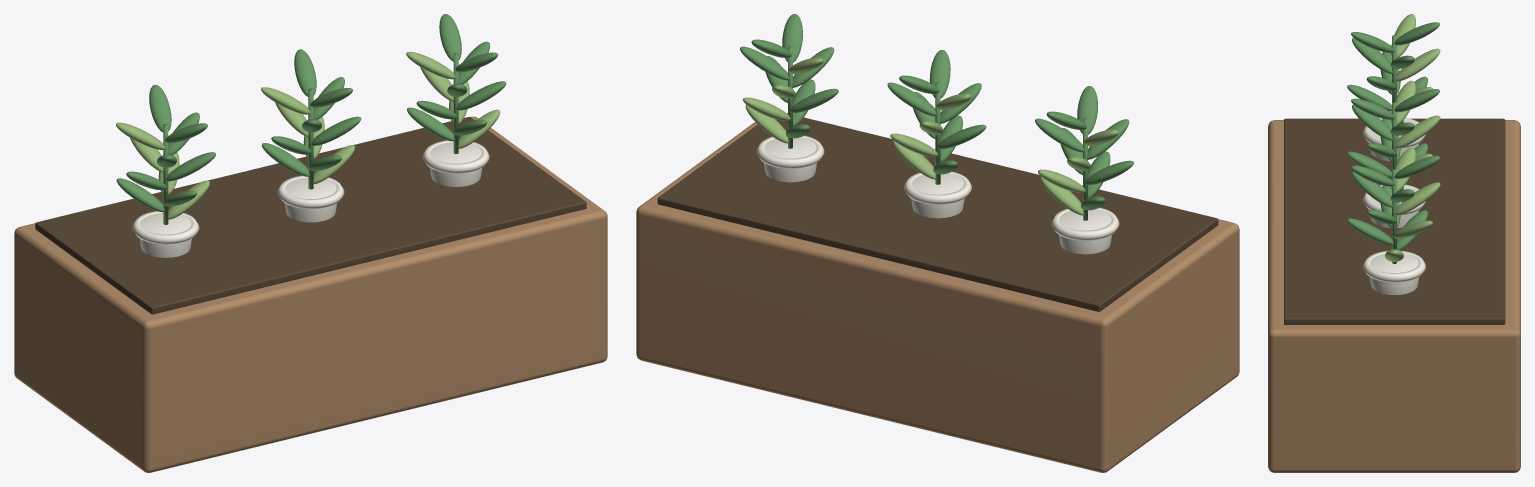
File: atelier-raised-garden-bed.glb
3 renders of one model, left to right at view 1: azimuth 30°, elevation 25°; view 2: azimuth 150°, elevation 25°; view 3: azimuth 270°, elevation 25°, orthographic. The views are drawn at different scales.
Visible parts, largest first — view 1: legs.206, soil.039, leaf.028, ceramic.131, leafLight.018; view 2: legs.206, soil.039, leaf.028, ceramic.131, leafLight.018; view 3: legs.206, soil.039, leaf.028, leafLight.018, ceramic.131.
Part boxes in pixels (bbox=[...]): legs.206: bbox=[14, 116, 607, 472]; soil.039: bbox=[35, 117, 586, 314]; leaf.028: bbox=[116, 14, 506, 224]; ceramic.131: bbox=[132, 140, 489, 257]; leafLight.018: bbox=[116, 51, 500, 219]; legs.206: bbox=[636, 122, 1239, 472]; soil.039: bbox=[657, 113, 1218, 311]; leaf.028: bbox=[740, 14, 1133, 220]; ceramic.131: bbox=[756, 135, 1119, 254]; leafLight.018: bbox=[743, 57, 1118, 215]; legs.206: bbox=[1268, 120, 1520, 472]; soil.039: bbox=[1284, 118, 1505, 324]; leaf.028: bbox=[1347, 22, 1439, 263]; leafLight.018: bbox=[1385, 14, 1440, 261]; ceramic.131: bbox=[1363, 117, 1425, 295].
Bounding box in the file's own units: 1.6 × 0.9917 × 0.8.
